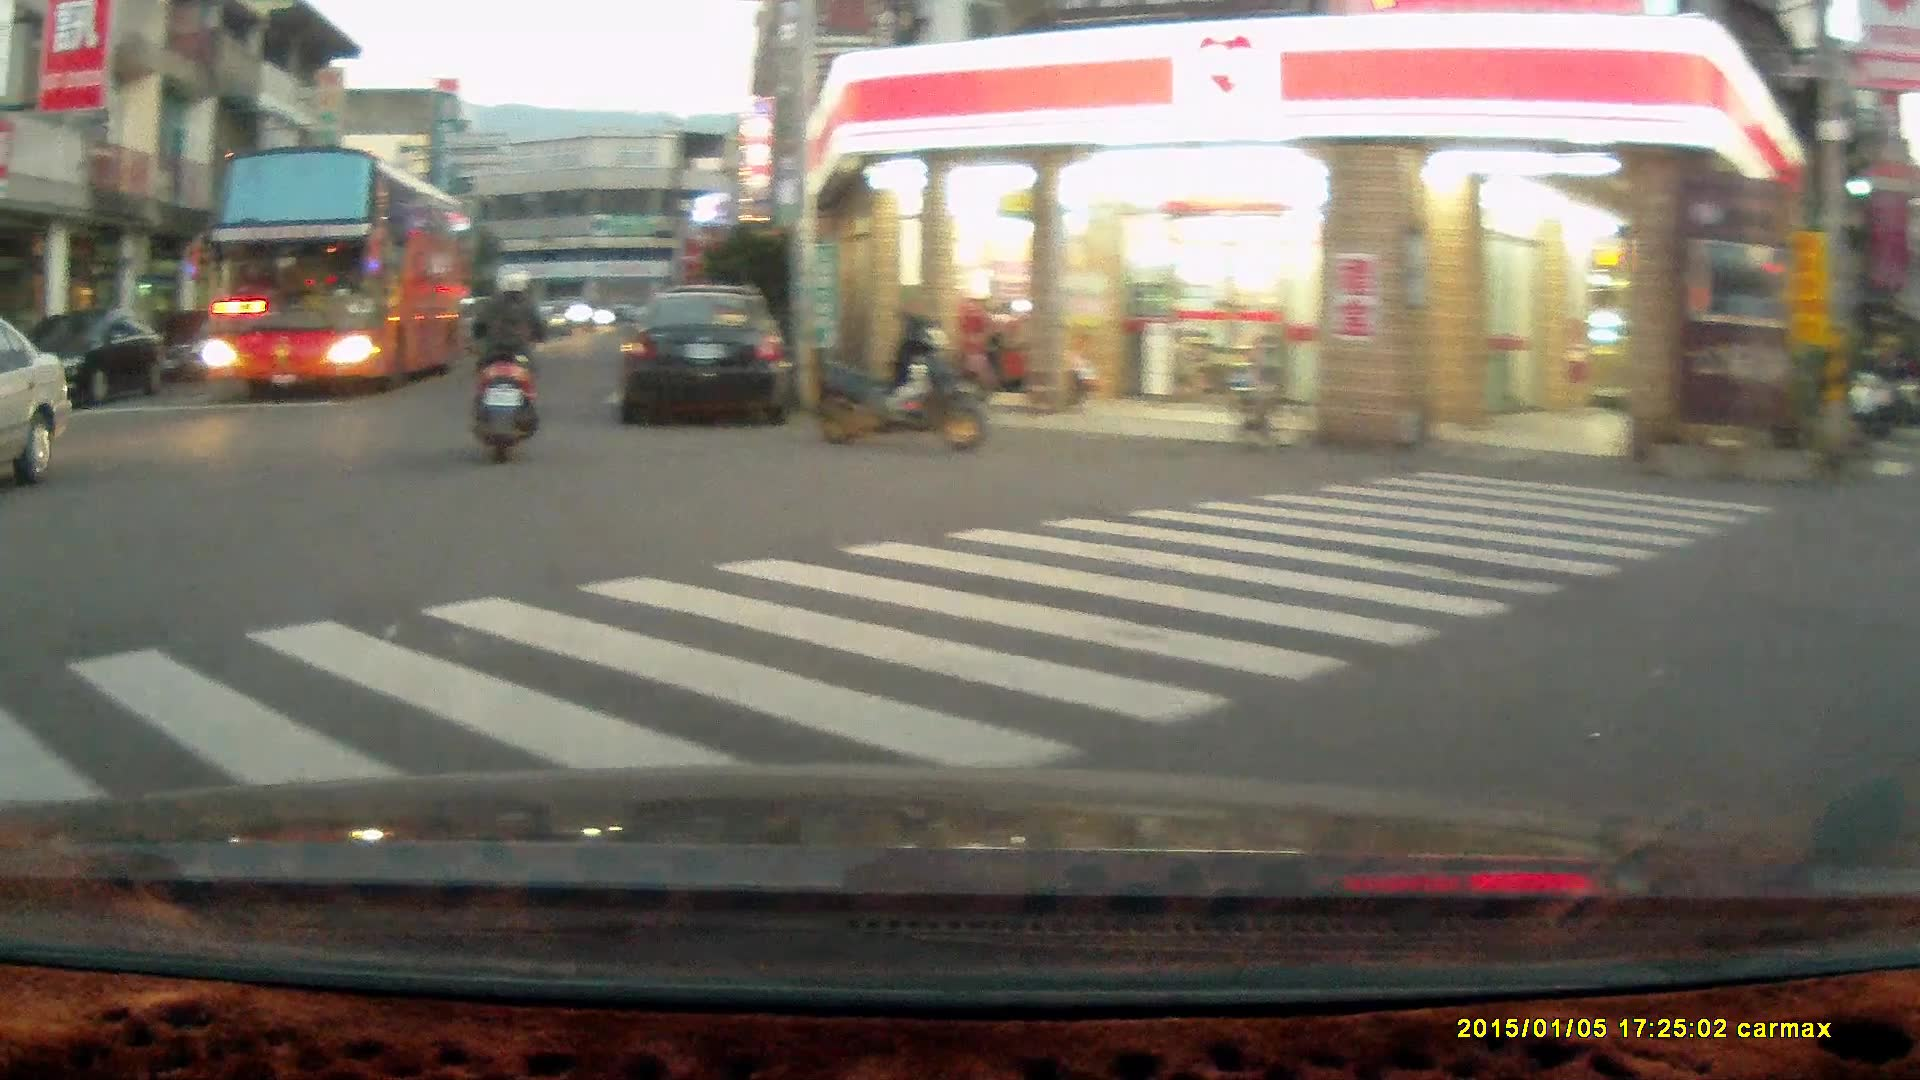rider: (459, 261, 551, 465)
vehicle: (203, 144, 483, 400), (616, 287, 798, 428), (9, 313, 165, 409)
